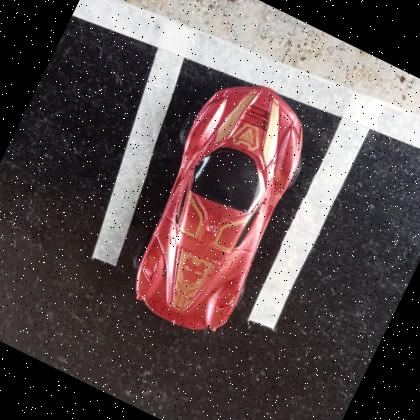Car: (135, 83, 304, 330)
